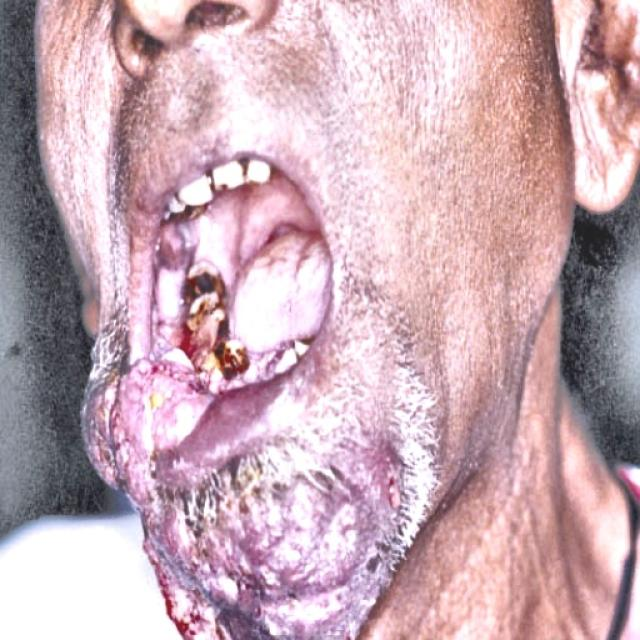cancer-detection: (77, 351, 388, 639)
processing_area: (73, 222, 402, 639)
